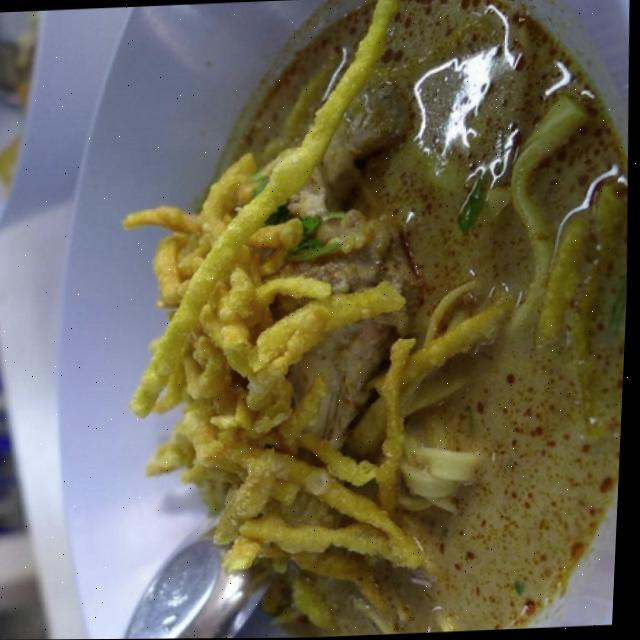面条主食: (75, 0, 640, 639)
